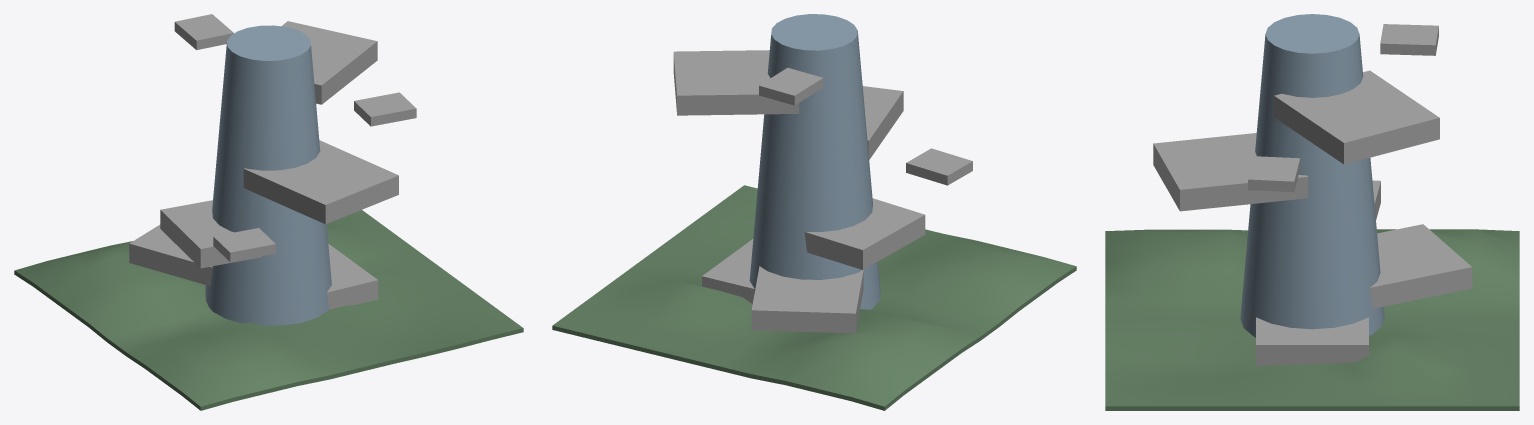
File: Torre.fbx
The picture shows the model from 3 angles, left to right: view 1: azimuth 30°, elevation 25°; view 2: azimuth 150°, elevation 25°; view 3: azimuth 270°, elevation 25°; orthographic projection. The views are drawn at different scales.
Parts seen in each view (by area): view 1: Landscape, pCylinder1, pCube5, pCube7, pCube3, pCube2, pCube1, pCube6, pCube4, pCube8; view 2: Landscape, pCylinder1, pCube7, pCube2, pCube3, pCube5, pCube1, pCube4, pCube8; view 3: Landscape, pCylinder1, pCube7, pCube5, pCube2, pCube1, pCube8, pCube6.
Part boxes in pixels (<box>): Landscape: <box>14,210,523,410</box>; pCylinder1: <box>205,25,331,325</box>; pCube5: <box>243,140,398,224</box>; pCube7: <box>281,21,377,104</box>; pCube3: <box>160,200,261,268</box>; pCube2: <box>129,224,212,286</box>; pCube1: <box>327,244,378,309</box>; pCube6: <box>354,92,416,126</box>; pCube4: <box>213,228,275,261</box>; pCube8: <box>174,14,233,50</box>; Landscape: <box>552,185,1076,410</box>; pCylinder1: <box>749,14,880,309</box>; pCube7: <box>673,50,799,115</box>; pCube2: <box>751,266,863,333</box>; pCube3: <box>804,198,925,269</box>; pCube5: <box>862,86,903,159</box>; pCube1: <box>702,239,754,304</box>; pCube4: <box>906,148,972,185</box>; pCube8: <box>759,67,823,105</box>; Landscape: <box>1105,229,1519,410</box>; pCylinder1: <box>1240,14,1384,337</box>; pCube7: <box>1274,70,1439,164</box>; pCube5: <box>1153,133,1308,211</box>; pCube2: <box>1370,224,1472,308</box>; pCube1: <box>1256,317,1368,366</box>; pCube8: <box>1380,24,1438,55</box>; pCube6: <box>1248,156,1300,192</box>.
Size of the model in its own units: 40.27 by 31.73 by 40.27.
